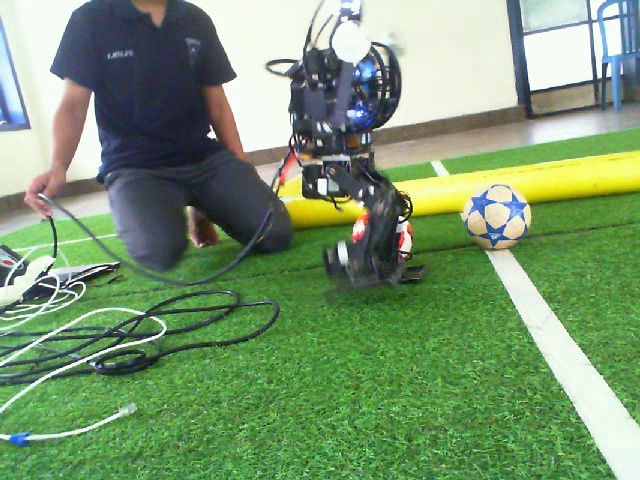ball: (461, 180, 533, 252), (396, 211, 417, 264)
